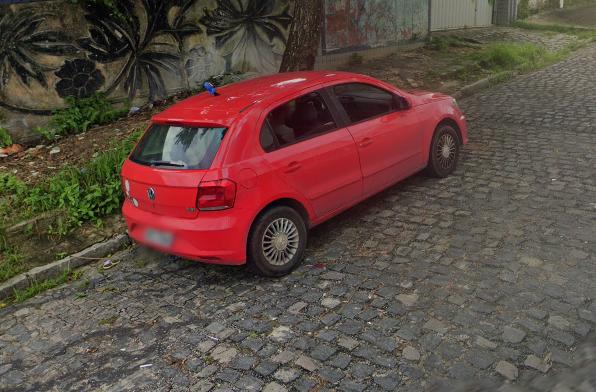car: (115, 68, 469, 279)
